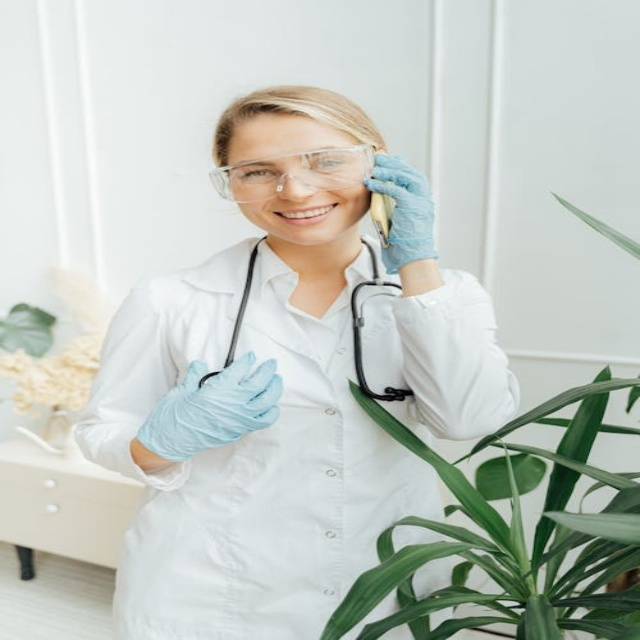Gafas: (207, 136, 383, 204)
Guantes: (137, 351, 284, 461), (362, 154, 438, 271)
Sin_mascara: (262, 196, 352, 238)
